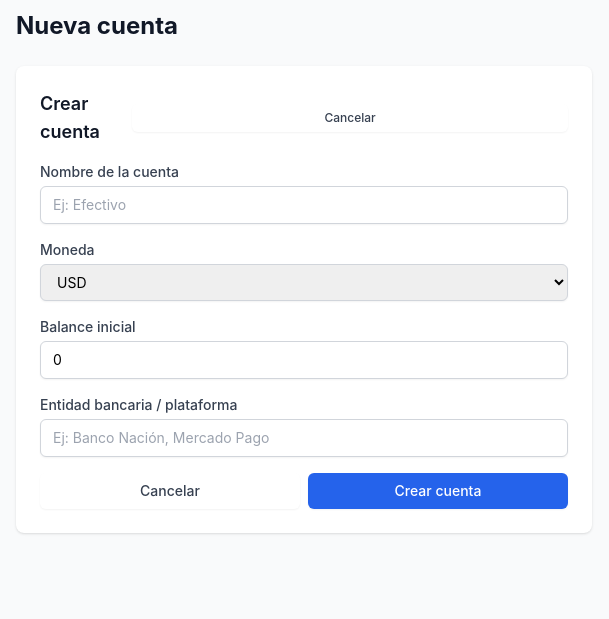
Scenario: NewAccountPage › shows a warning when creating an account with an existing name
expect the heading "Crear cuenta" is shown: met, box [40, 93, 100, 142]
Step 1. Type "Cash USD" into the field labelled "Nombre de la cuenta" → (304, 205), box [40, 186, 568, 224]
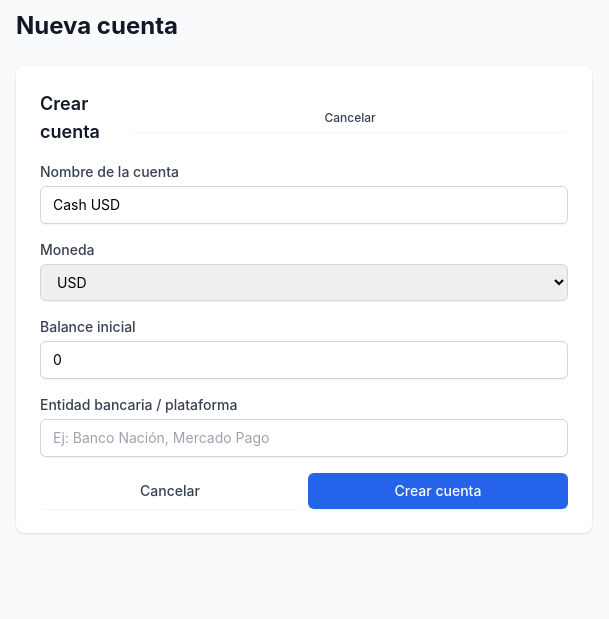
Step 2. Replace the text in the number field labelled "Balance inicial" with "100" → (304, 360), box [40, 341, 568, 379]
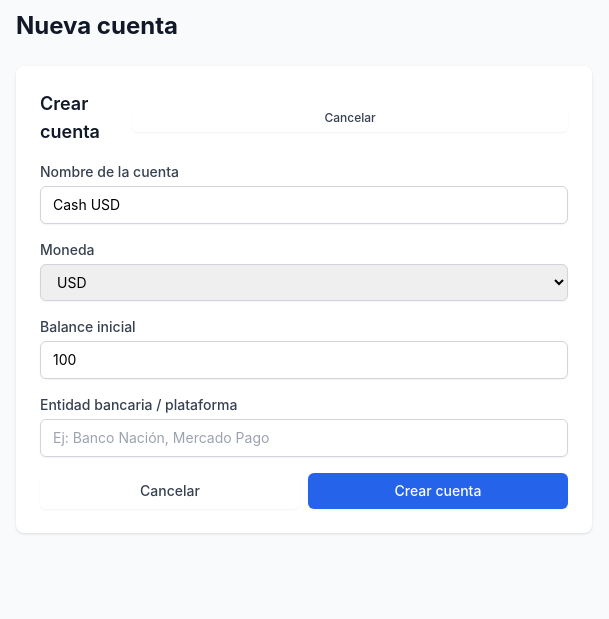
Step 3. Type "BBVA" into the field labelled "Entidad bancaria / plataforma" → (304, 438), box [40, 419, 568, 457]
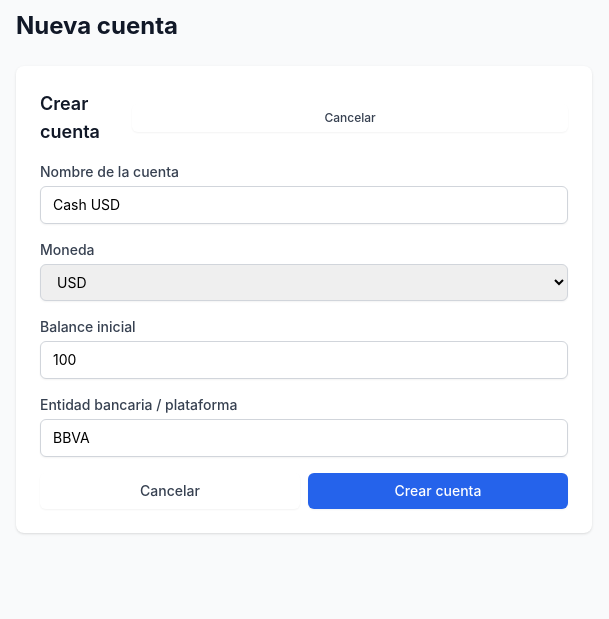
Step 4. Click the button "Crear cuenta" → (438, 491), box [308, 473, 568, 509]
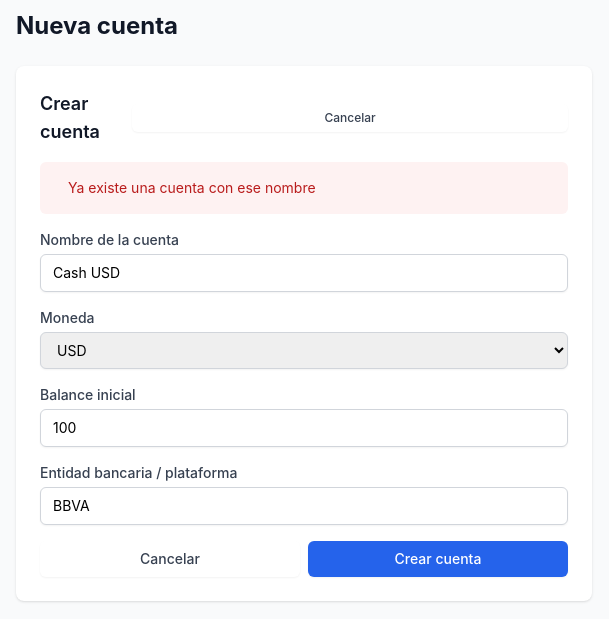
expect the text "Ya existe una cuenta con ese nombre" is shown: met, box [68, 178, 316, 198]
